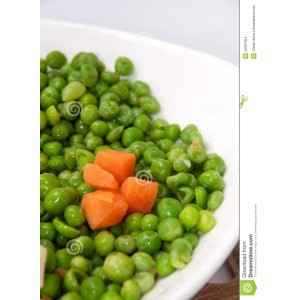green pea_brain food: (88, 94, 123, 135), (167, 155, 201, 196), (99, 252, 134, 281), (140, 217, 185, 239), (44, 193, 77, 209)
